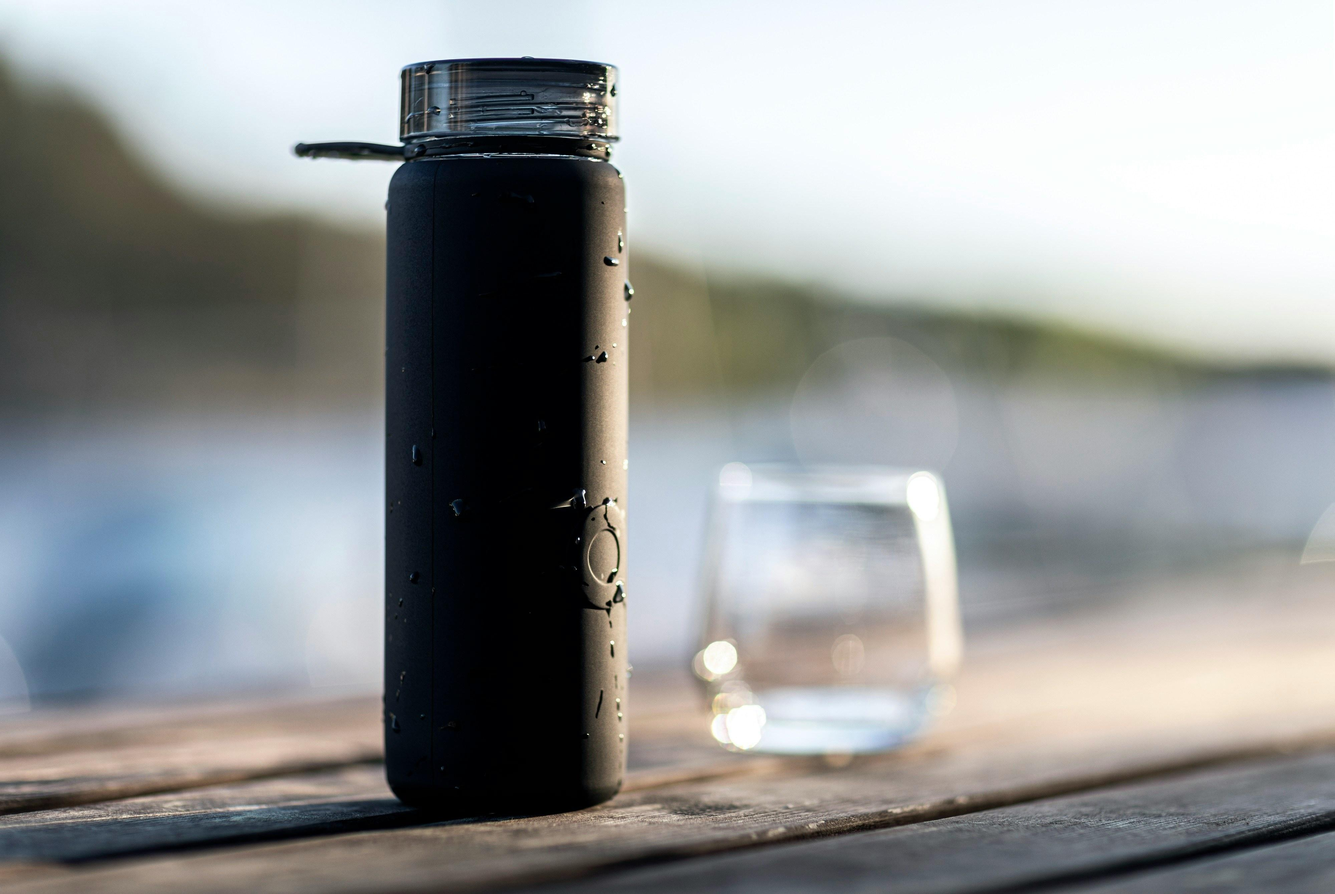Bottle-Detection: (270, 27, 686, 848)
